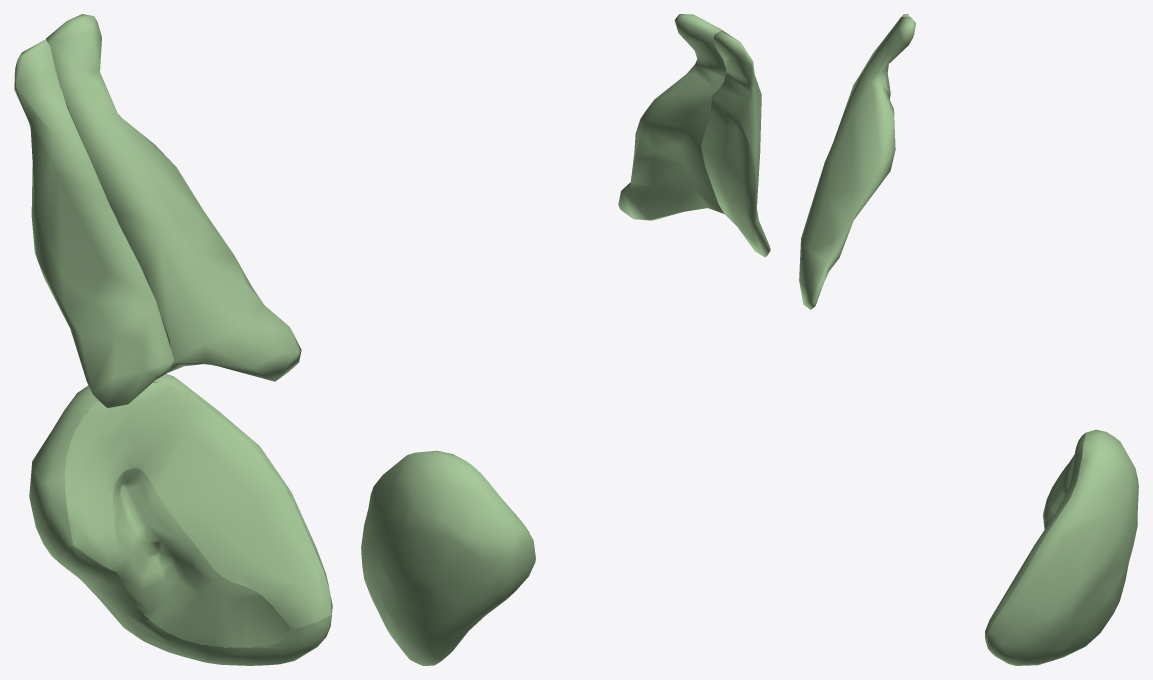
File: adult_female.lymphatic.LOD2.glb
3 views of the same model, side by side, from view 1: azimuth 30°, elevation 25°; view 2: azimuth 150°, elevation 25°; view 3: azimuth 270°, elevation 25° (orthographic). The views are drawn at different scales.
Parts seen in each view (by area): view 1: ADULT.FEMALE.LYMPHATIC.GASTRIC_SURFACE_OF_SPLEEN, ADULT.FEMALE.LYMPHATIC.THYMUS_LOBE.L, ADULT.FEMALE.LYMPHATIC.THYMUS_LOBE.R, ADULT.FEMALE.LYMPHATIC.HILUM_OF_SPLEEN, ADULT.FEMALE.LYMPHATIC.DIAPHRAGMATIC_SURFACE_OF_SPLEEN, ADULT.FEMALE.LYMPHATIC.RENAL_SURFACE_OF_SPLEEN, ADULT.FEMALE.LYMPHATIC.COLIC_SURFACE_OF_SPLEEN; view 2: ADULT.FEMALE.LYMPHATIC.DIAPHRAGMATIC_SURFACE_OF_SPLEEN, ADULT.FEMALE.LYMPHATIC.THYMUS_LOBE.L, ADULT.FEMALE.LYMPHATIC.THYMUS_LOBE.R; view 3: ADULT.FEMALE.LYMPHATIC.DIAPHRAGMATIC_SURFACE_OF_SPLEEN, ADULT.FEMALE.LYMPHATIC.THYMUS_LOBE.L, ADULT.FEMALE.LYMPHATIC.GASTRIC_SURFACE_OF_SPLEEN.
Part boxes in pixels (x1,y1,x2,y2): ADULT.FEMALE.LYMPHATIC.GASTRIC_SURFACE_OF_SPLEEN: (65, 382, 331, 628); ADULT.FEMALE.LYMPHATIC.THYMUS_LOBE.L: (46, 14, 301, 381); ADULT.FEMALE.LYMPHATIC.THYMUS_LOBE.R: (14, 39, 174, 408); ADULT.FEMALE.LYMPHATIC.HILUM_OF_SPLEEN: (113, 468, 289, 647); ADULT.FEMALE.LYMPHATIC.DIAPHRAGMATIC_SURFACE_OF_SPLEEN: (29, 373, 332, 664); ADULT.FEMALE.LYMPHATIC.RENAL_SURFACE_OF_SPLEEN: (59, 545, 288, 665); ADULT.FEMALE.LYMPHATIC.COLIC_SURFACE_OF_SPLEEN: (278, 615, 331, 661); ADULT.FEMALE.LYMPHATIC.DIAPHRAGMATIC_SURFACE_OF_SPLEEN: (361, 450, 535, 665); ADULT.FEMALE.LYMPHATIC.THYMUS_LOBE.L: (618, 14, 726, 220); ADULT.FEMALE.LYMPHATIC.THYMUS_LOBE.R: (701, 31, 770, 257); ADULT.FEMALE.LYMPHATIC.DIAPHRAGMATIC_SURFACE_OF_SPLEEN: (987, 429, 1138, 665); ADULT.FEMALE.LYMPHATIC.THYMUS_LOBE.L: (799, 16, 915, 309); ADULT.FEMALE.LYMPHATIC.GASTRIC_SURFACE_OF_SPLEEN: (985, 433, 1085, 634).
Size of the model in its own units: 0.147 by 0.2822 by 0.1568.
